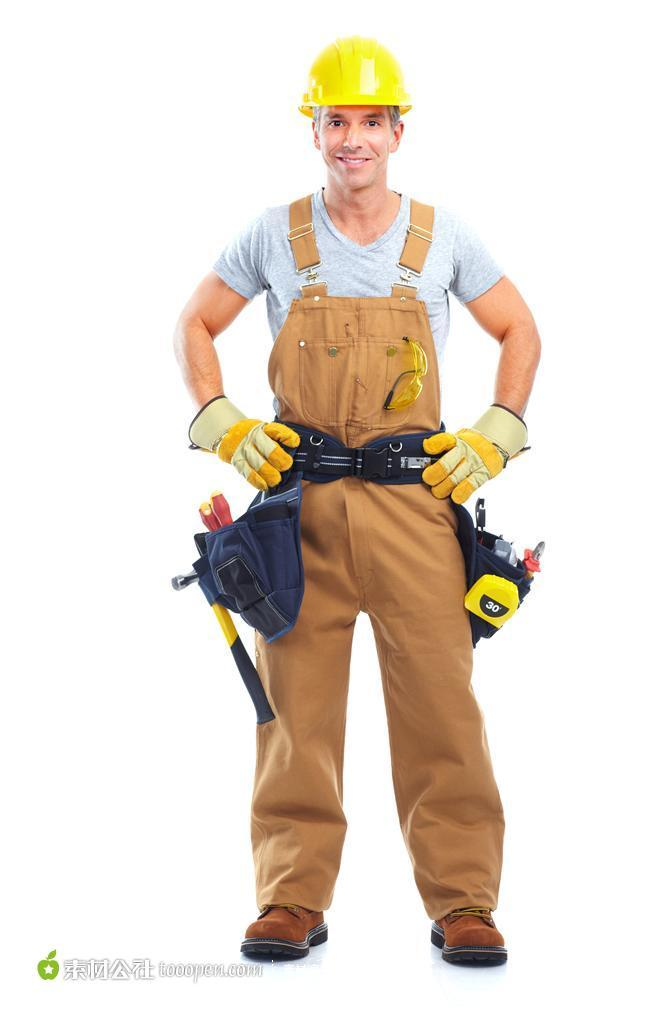helmet: (298, 36, 418, 124)
